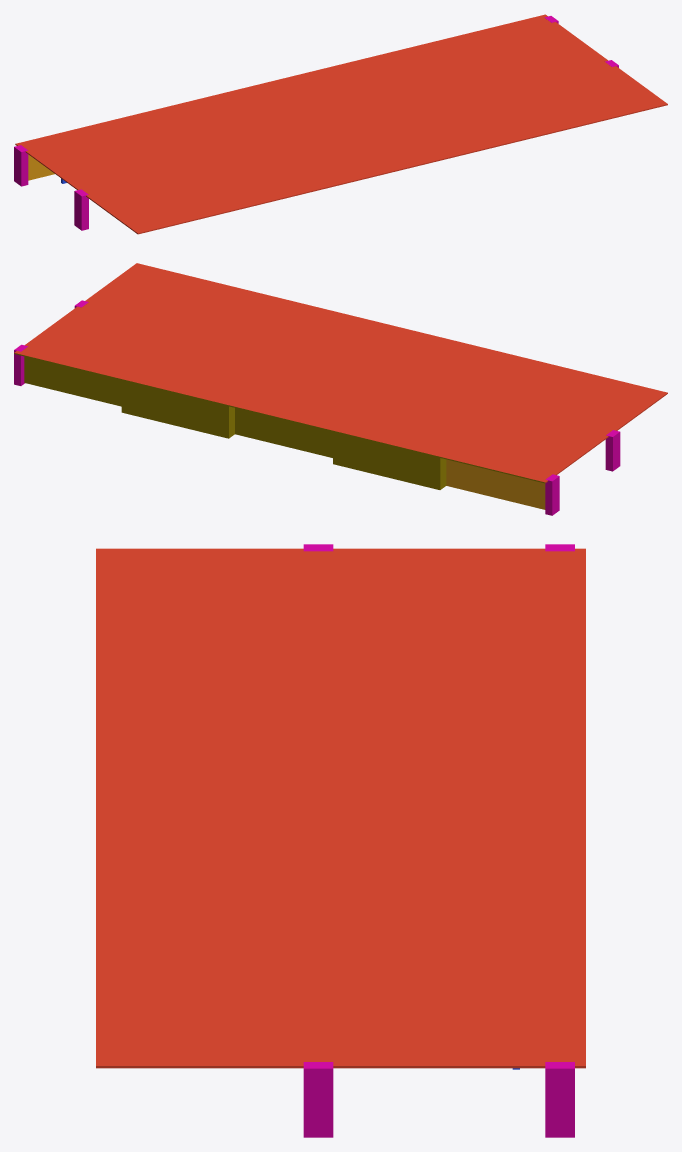
Rendered from tunel.fbx.
3 views of the same model, one above another, from view 1: azimuth 30°, elevation 25°; view 2: azimuth 150°, elevation 25°; view 3: azimuth 270°, elevation 25° (orthographic). The views are drawn at different scales.
Parts seen in each view (by area): view 1: TECHO, Cube.020, Cube; view 2: TECHO, Cube.018, Cube.012, Cube, Cube.019, Cube.015, Cube.020, Cube.021; view 3: TECHO, Cube.021.
Part boxes in pixels (<box>): TECHO: <box>15,14,667,234</box>; Cube.020: <box>14,145,88,230</box>; Cube: <box>28,154,54,180</box>; TECHO: <box>14,263,667,483</box>; Cube.018: <box>121,380,227,438</box>; Cube.012: <box>333,432,438,489</box>; Cube: <box>446,459,545,509</box>; Cube.019: <box>24,356,121,406</box>; Cube.015: <box>235,408,332,457</box>; Cube.020: <box>545,430,620,515</box>; Cube.021: <box>14,300,88,385</box>; TECHO: <box>96,548,585,1068</box>; Cube.021: <box>303,1062,574,1137</box>.
Bounding box in the file's own units: 1013 × 62.04 × 400.
